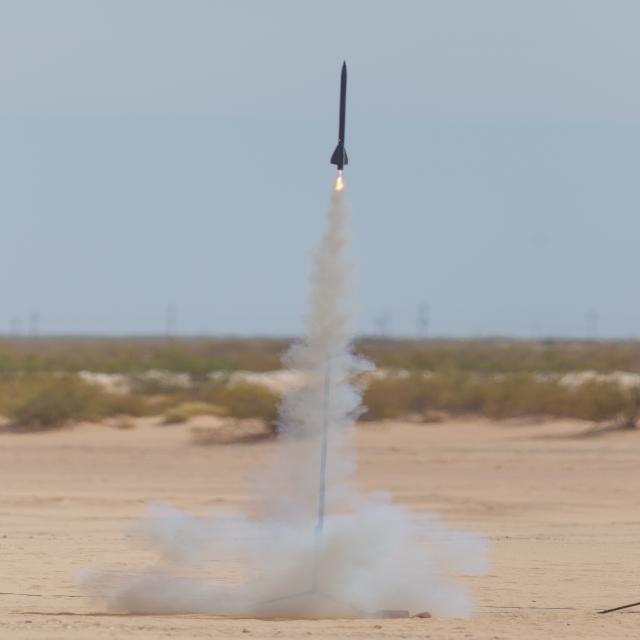Rocket: (331, 60, 350, 171)
